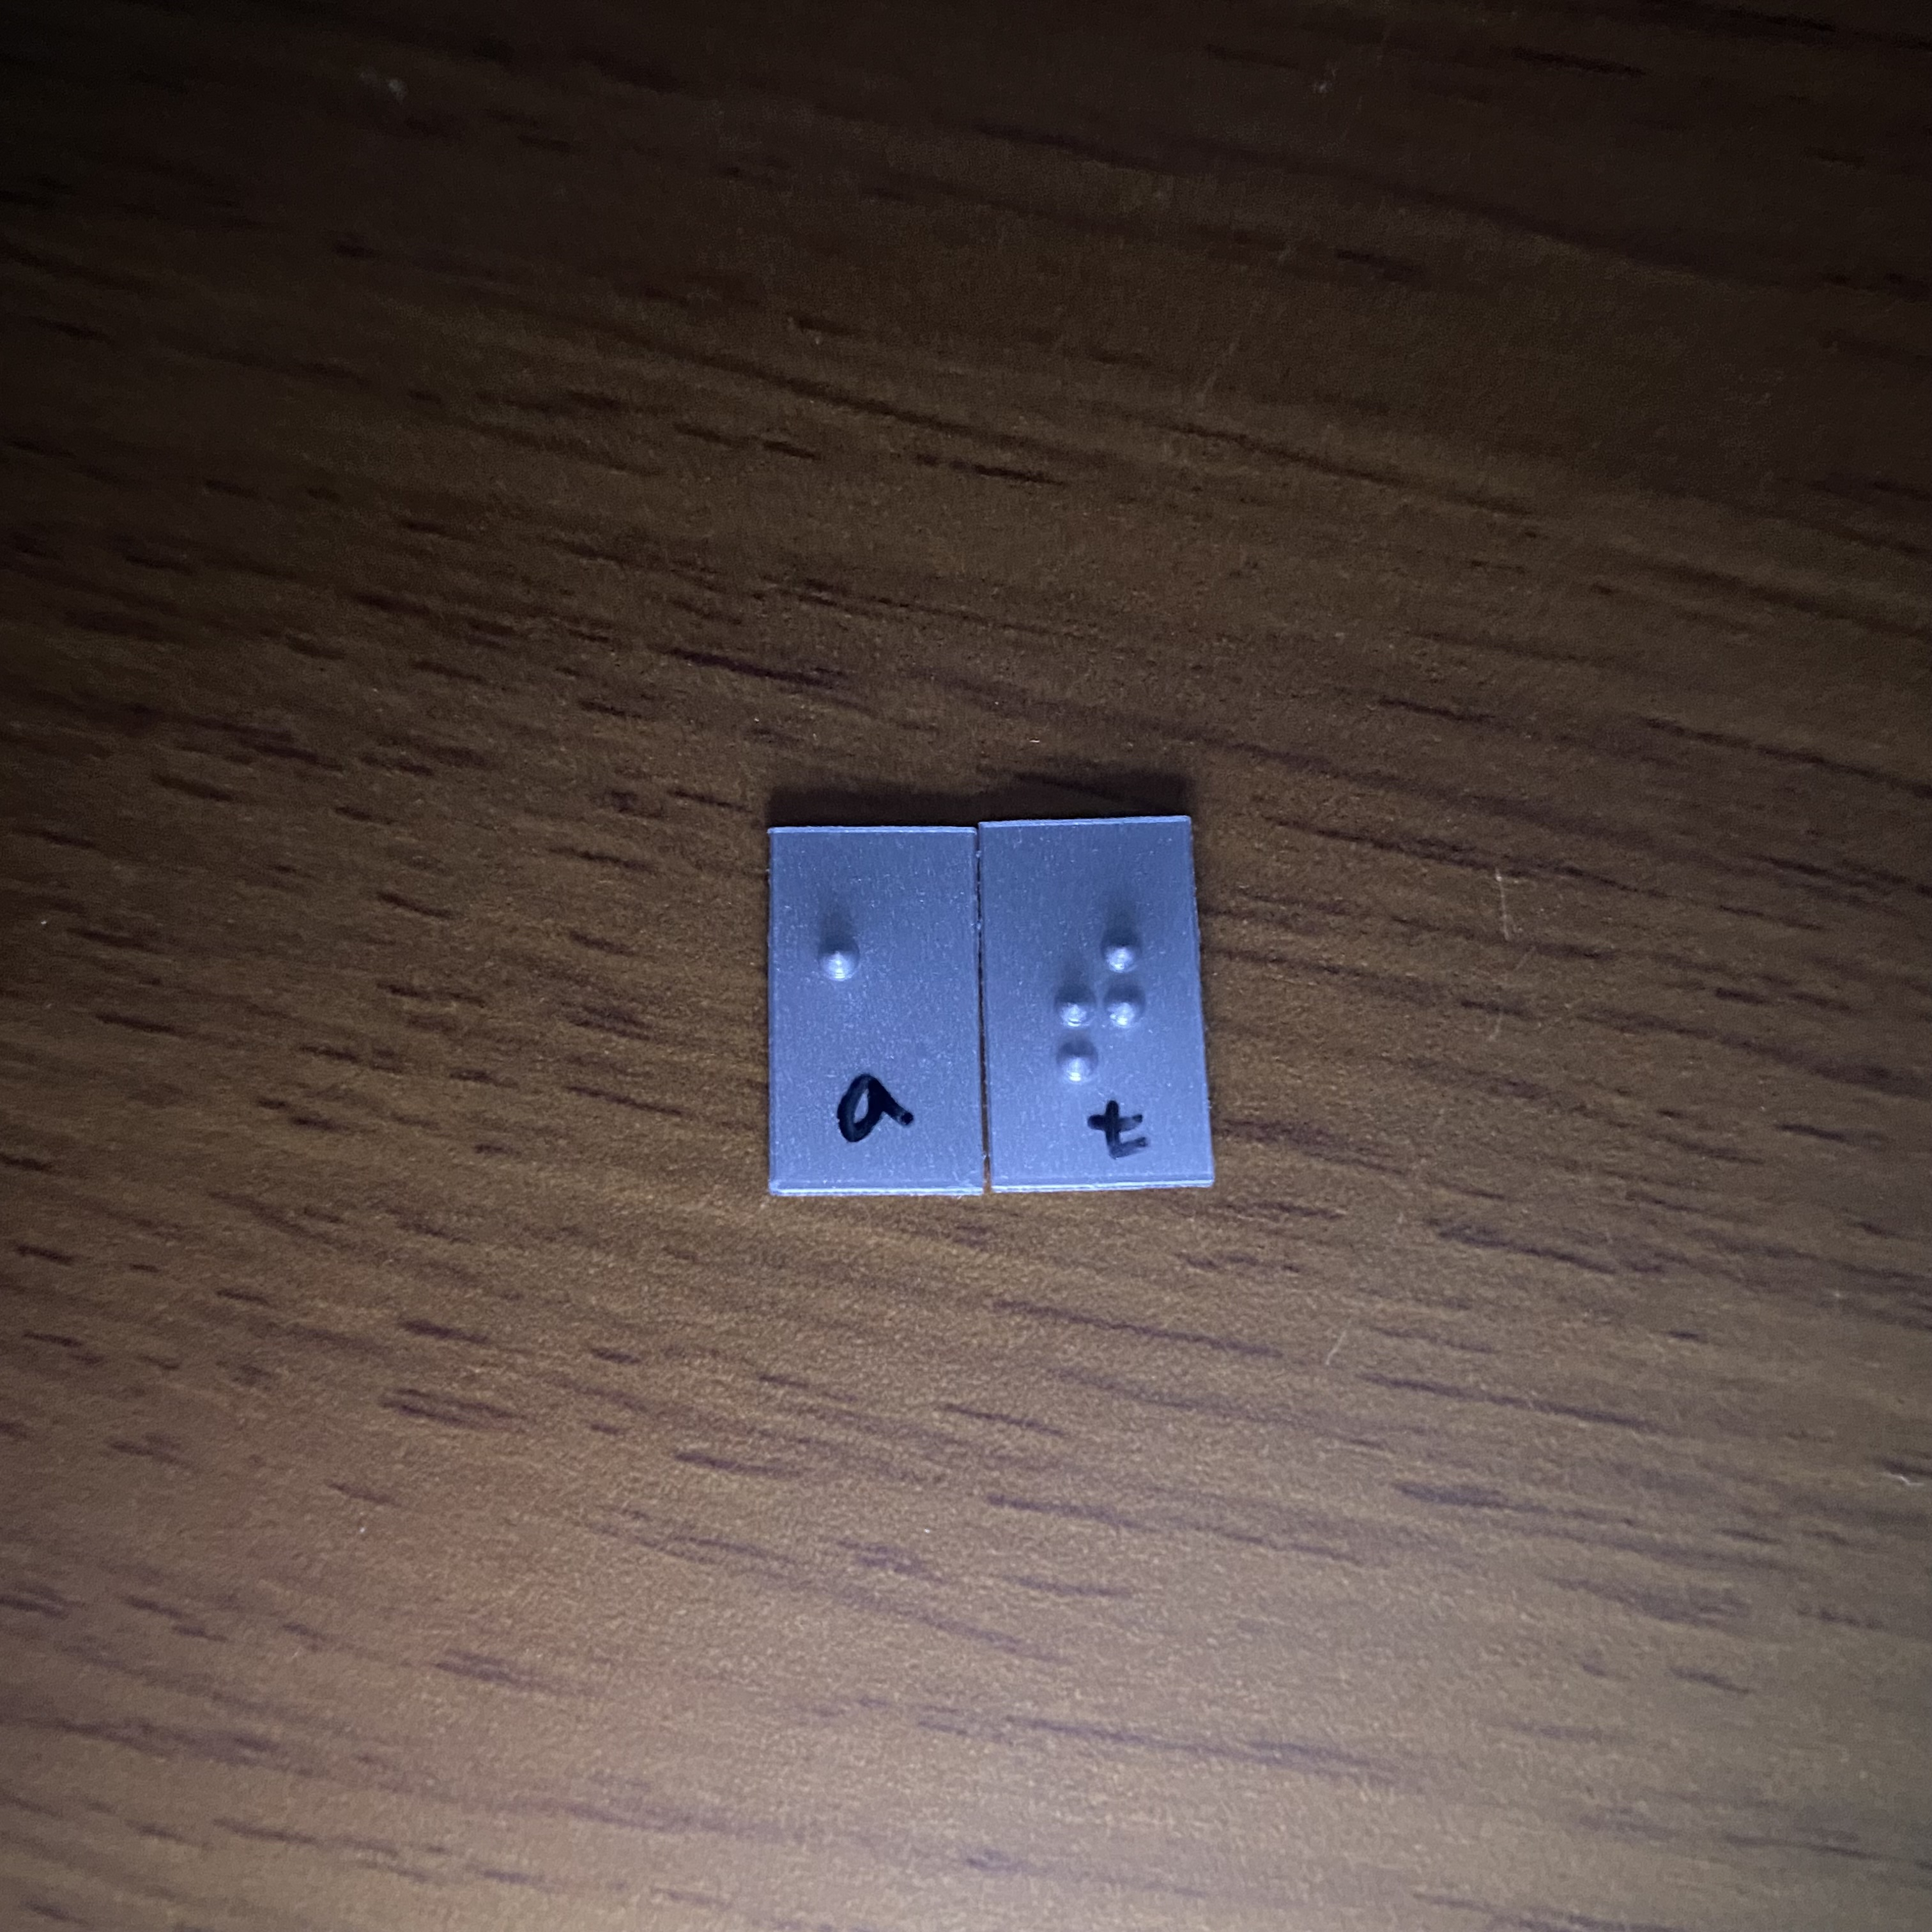a: (816, 899, 926, 1099)
t: (1025, 899, 1157, 1088)
